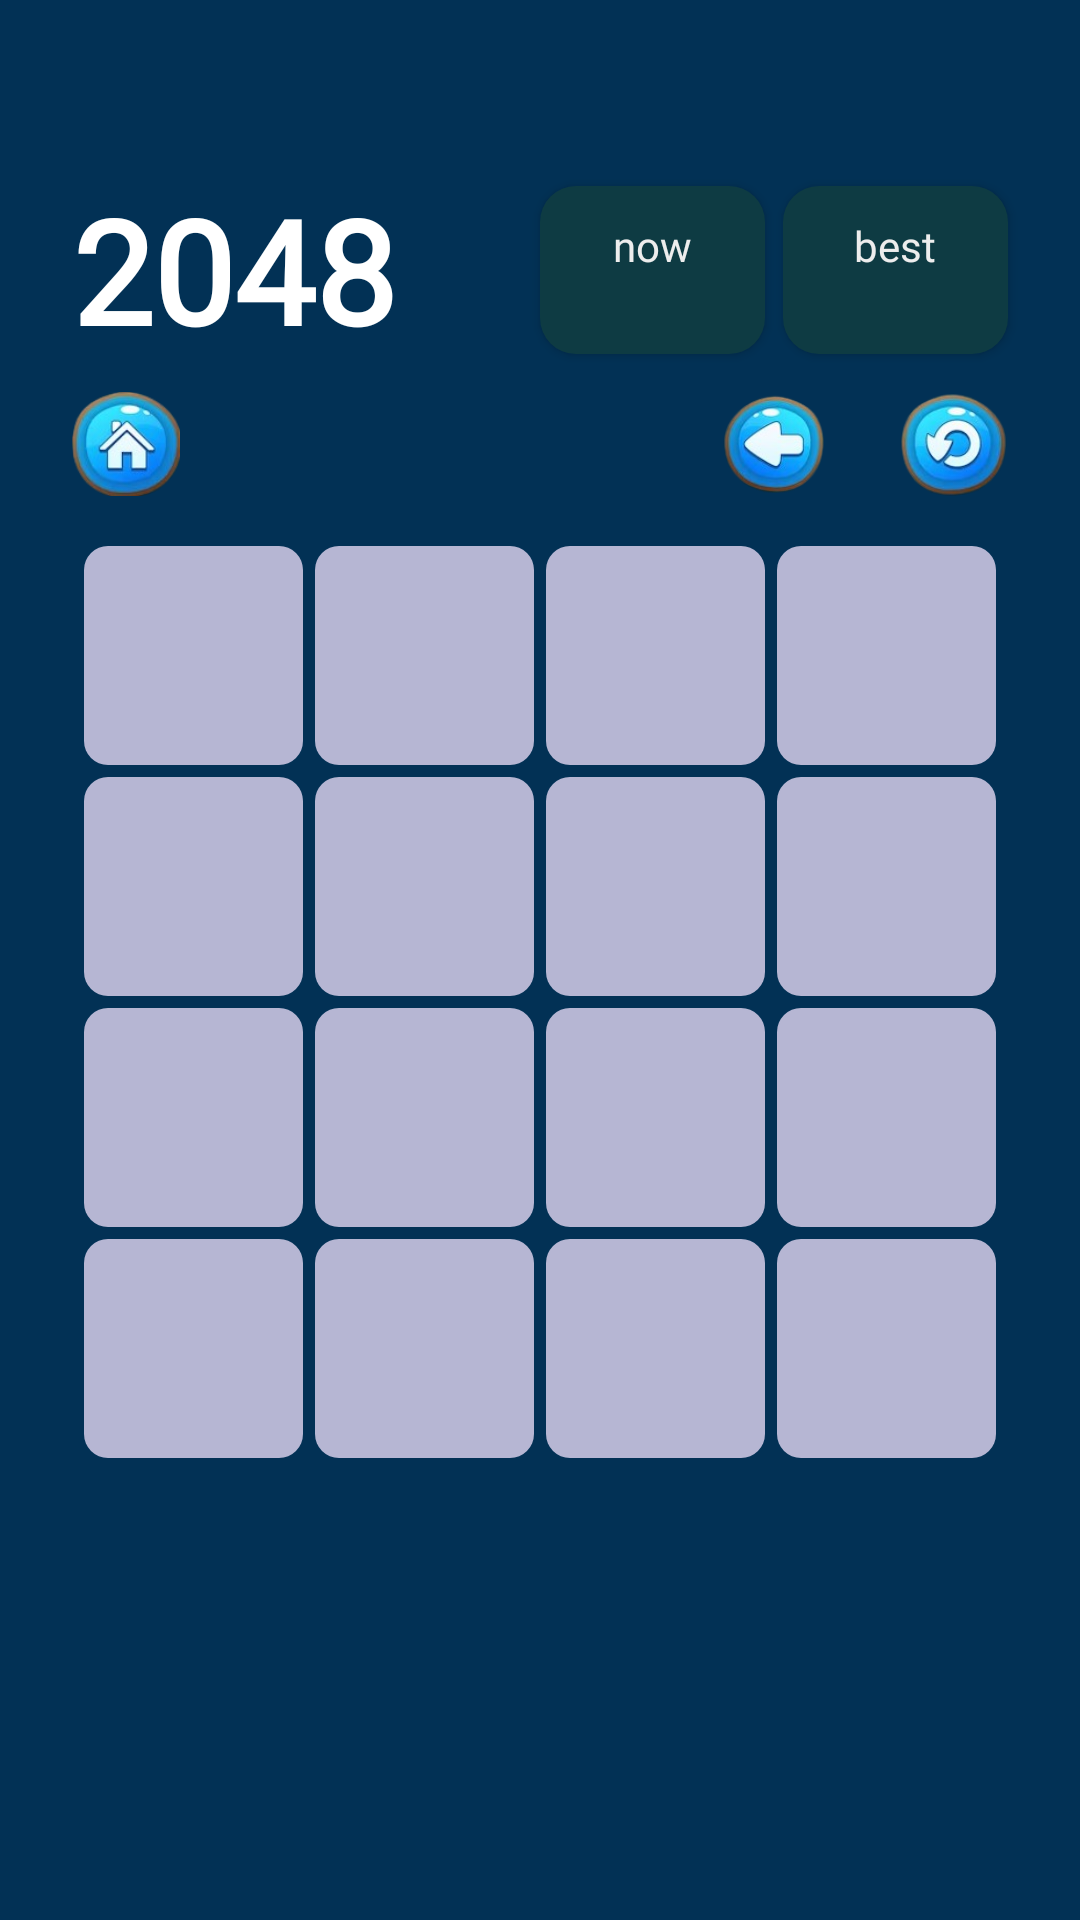

Where to tap for icons on this 1080w x 1920h app screen, as (x=x, y=y):
home: (x=126, y=444)
restart: (x=953, y=444)
